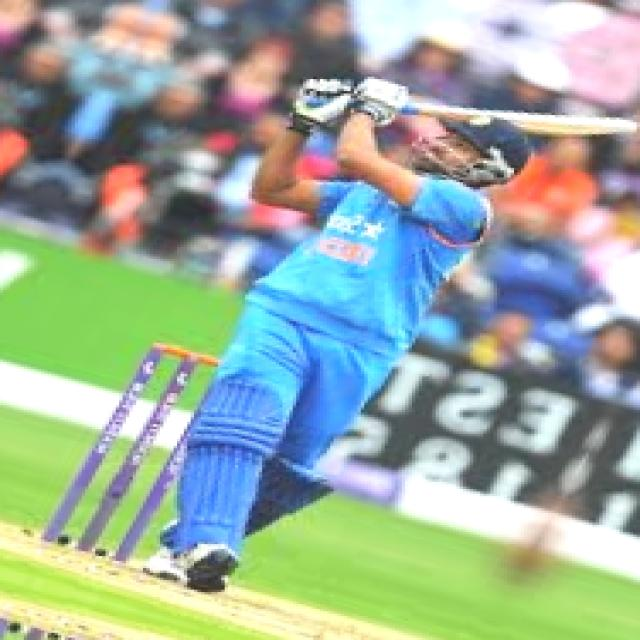toe: (599, 112, 637, 136)
